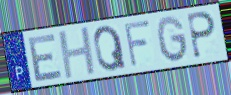E: (27, 31, 65, 84)
F: (122, 18, 152, 69)
G: (155, 14, 190, 64)
H: (56, 25, 98, 82)
P: (186, 10, 217, 60)
Q: (92, 24, 128, 74)
